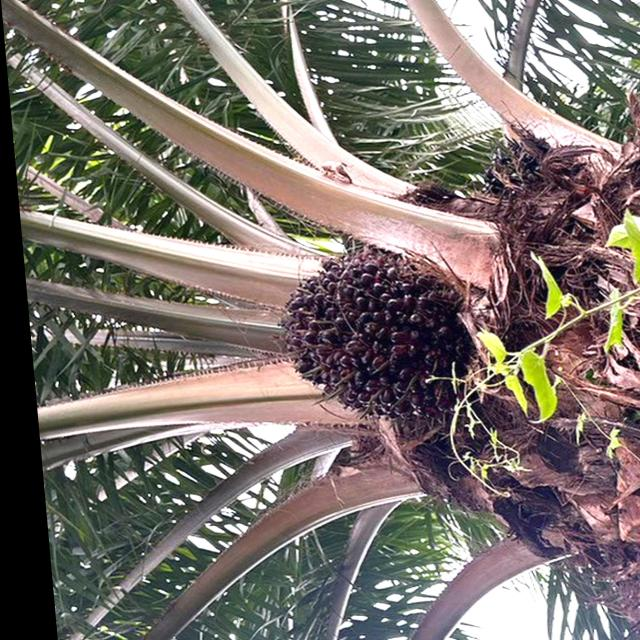ripe: (245, 222, 476, 434)
